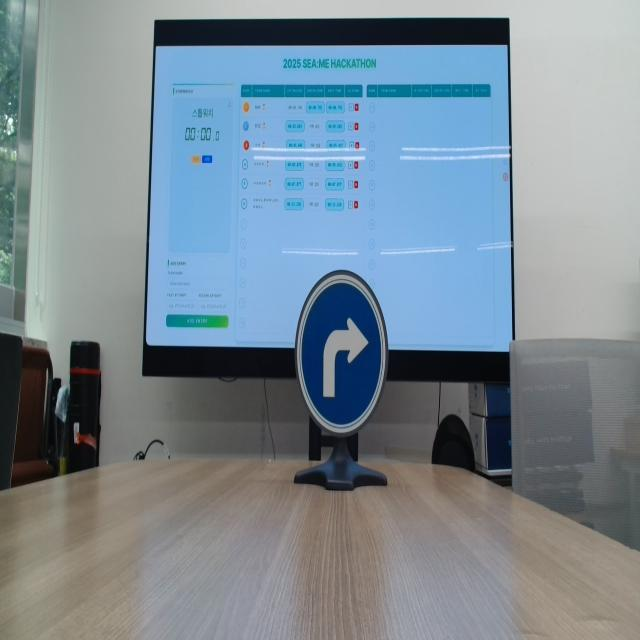right_dierection: (292, 261, 392, 434)
